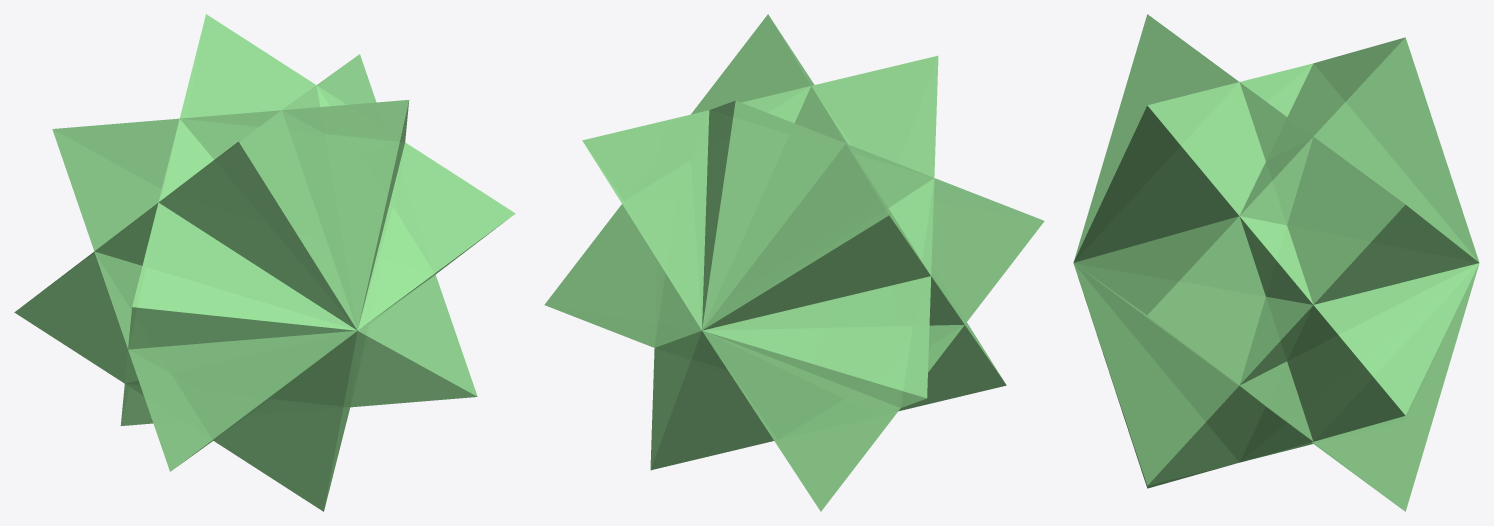
Rendered from HeptagrammicTrapezohedron.obj.
3 views of the same model, side by side, from view 1: azimuth 30°, elevation 25°; view 2: azimuth 150°, elevation 25°; view 3: azimuth 270°, elevation 25° (orthographic). The views are drawn at different scales.
Size of the model in its own units: 1 by 1.03 by 0.8365.
